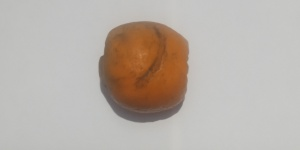BAD: (100, 19, 188, 115)
